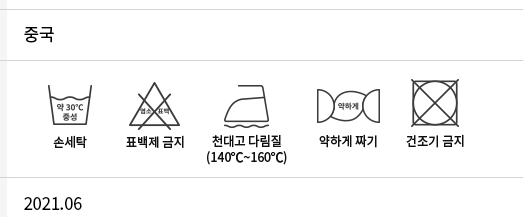KR_gentle_wring: (313, 83, 385, 131)
KR_hand_wash_30_neutral: (44, 79, 94, 128)
KR_no_chlorine_bleach: (125, 80, 183, 130)
KR_no_tumble_dry: (407, 75, 463, 132)
